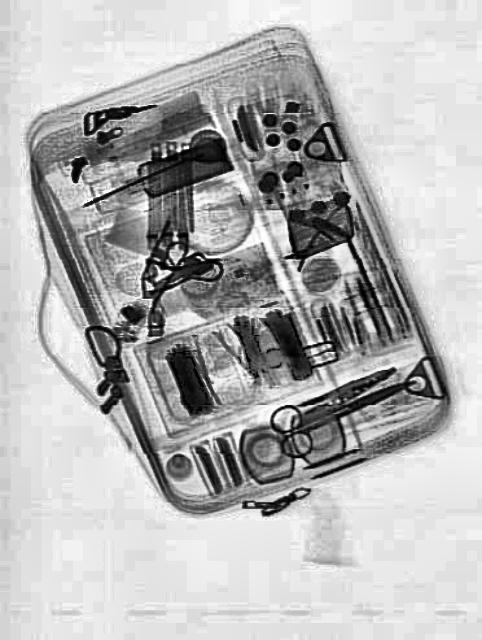Scissors: (266, 353, 422, 462)
